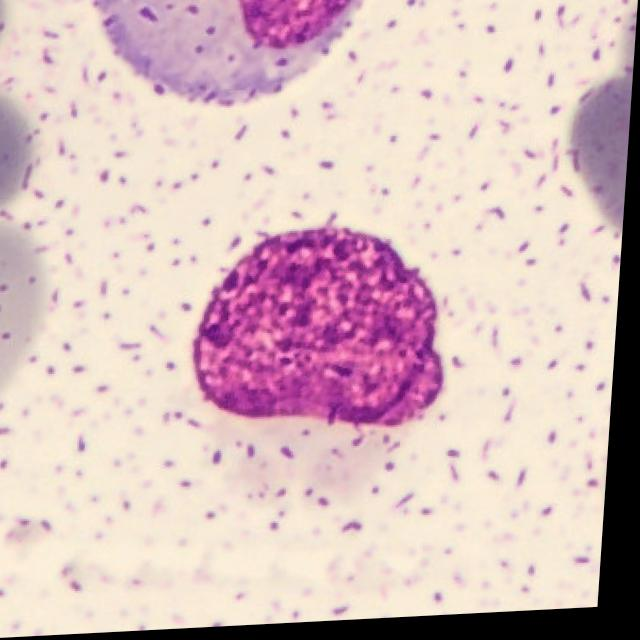Restos celulares: (196, 229, 450, 435)
